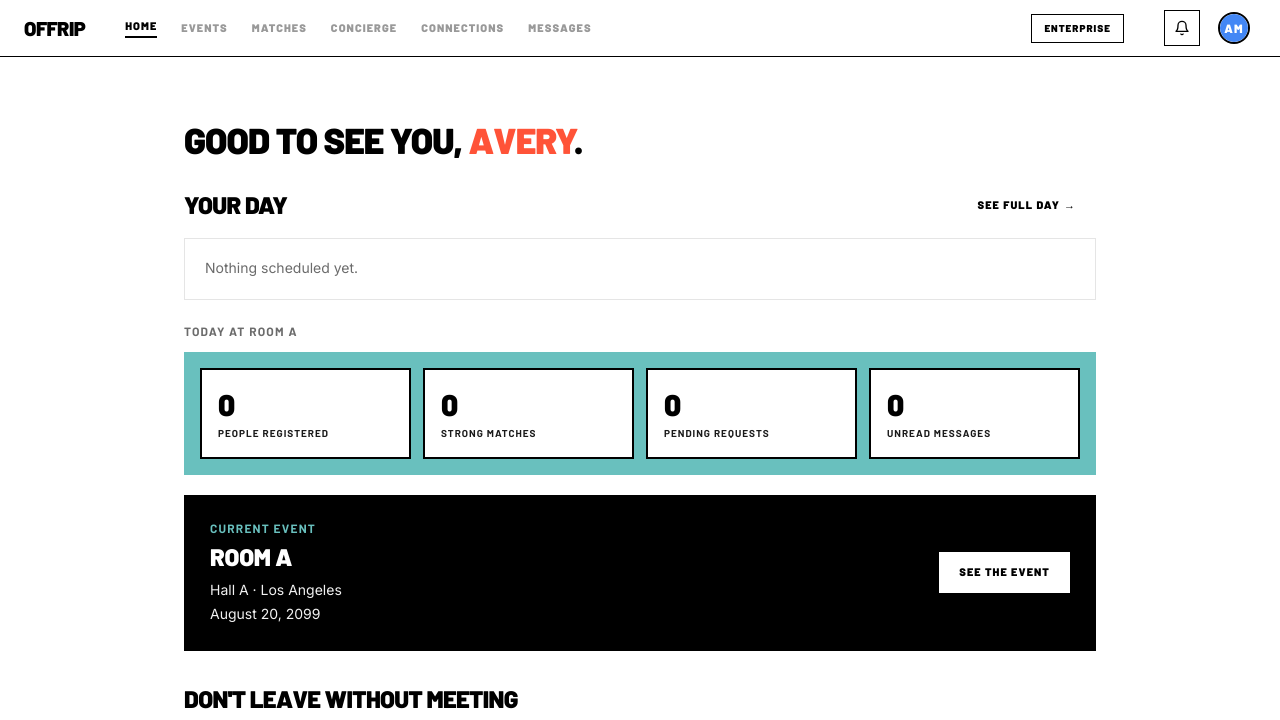
Test case: Dashboard — account deletion › puts a Delete Account entry in the account menu
Press the mouse on the button with aria-label "account menu" at (1234, 28), box [1212, 6, 1256, 50]
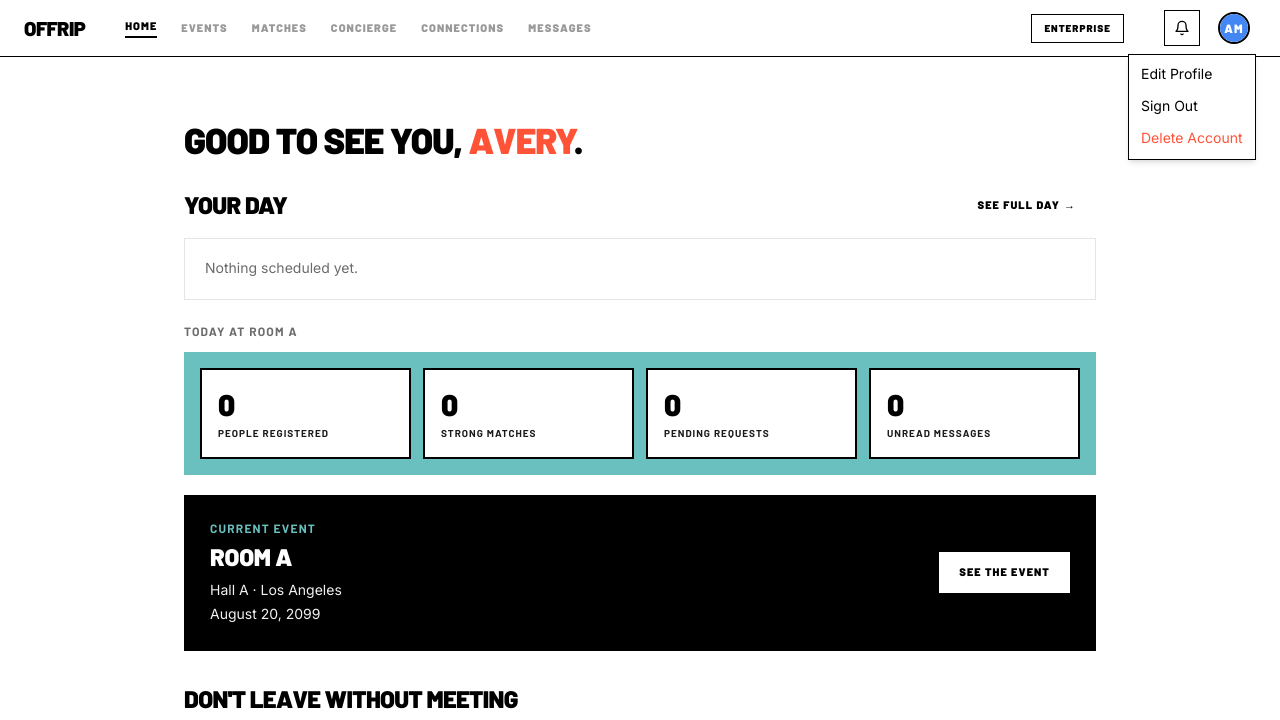
expect the menu item "Delete Account" is shown: met, box [1141, 130, 1242, 147]
